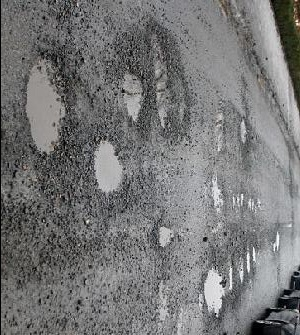pothole: (24, 49, 73, 158), (151, 27, 189, 139), (90, 134, 129, 196), (119, 60, 150, 126), (202, 266, 227, 320), (157, 221, 175, 248), (239, 115, 249, 144), (271, 229, 282, 252), (246, 249, 254, 274), (240, 257, 246, 282)
